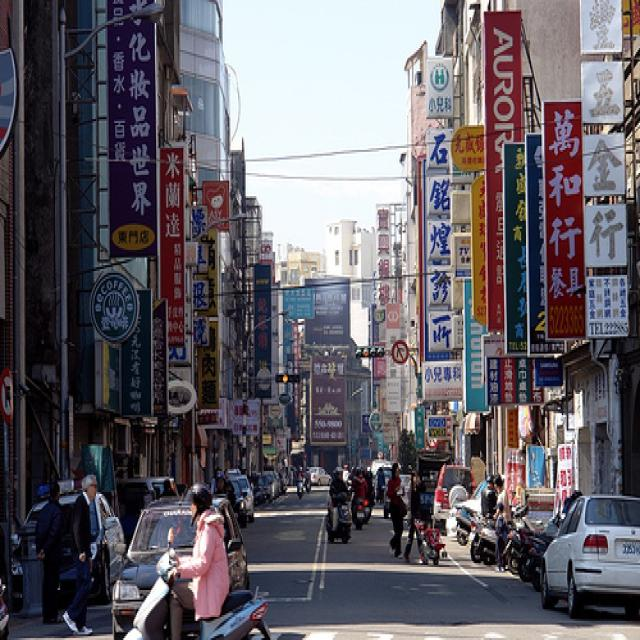motor: (125, 528, 273, 633), (518, 510, 564, 582), (325, 487, 354, 543), (530, 536, 556, 592), (470, 515, 497, 565), (502, 528, 522, 575), (355, 500, 368, 531), (364, 497, 373, 520), (296, 476, 304, 499)
